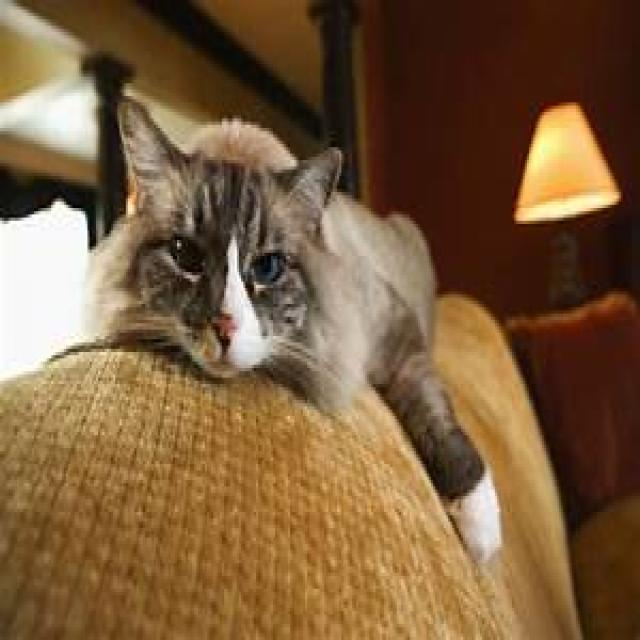animal: (78, 93, 510, 573)
